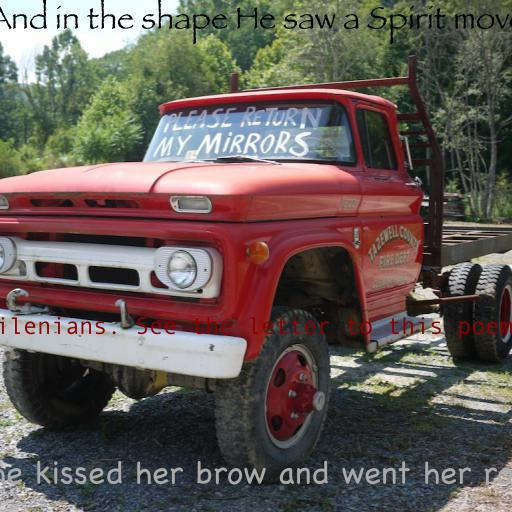Andale Mono: (0, 317, 512, 339)
Chalkboard: (0, 460, 512, 485)
Papyrus: (0, 0, 512, 45)
